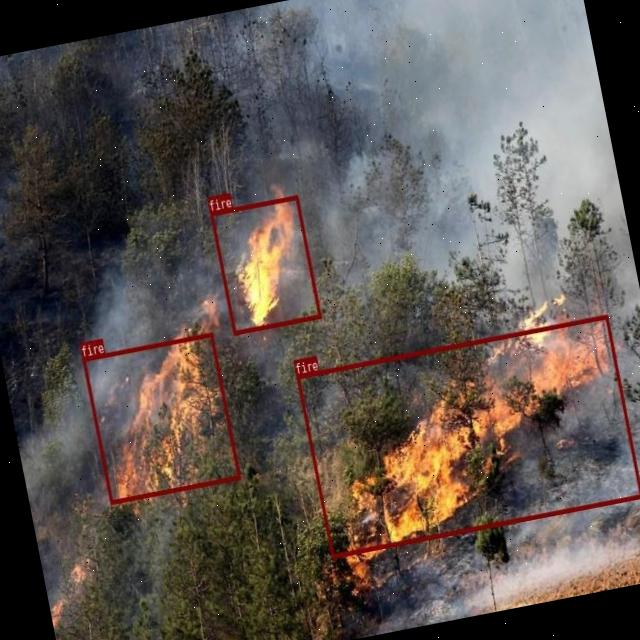fire: (296, 314, 640, 557), (82, 333, 240, 504), (210, 195, 322, 334)
